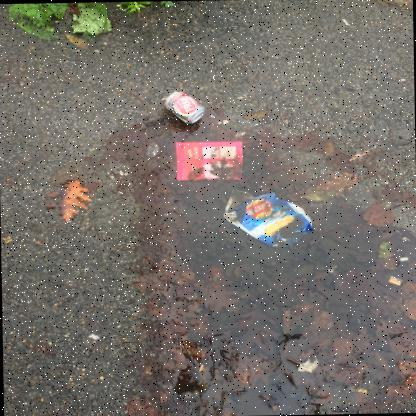Crisp packet: (222, 188, 313, 247), (175, 141, 242, 180)
Drink can: (163, 90, 204, 123)
